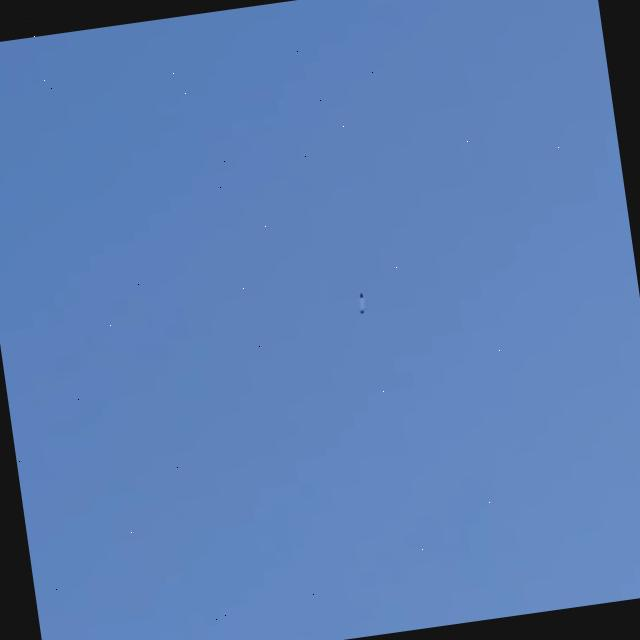rocket: (358, 292, 366, 316)
